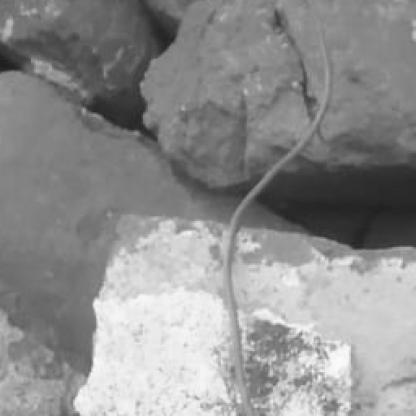cementitious_debris: (2, 0, 325, 414), (232, 0, 414, 414)
